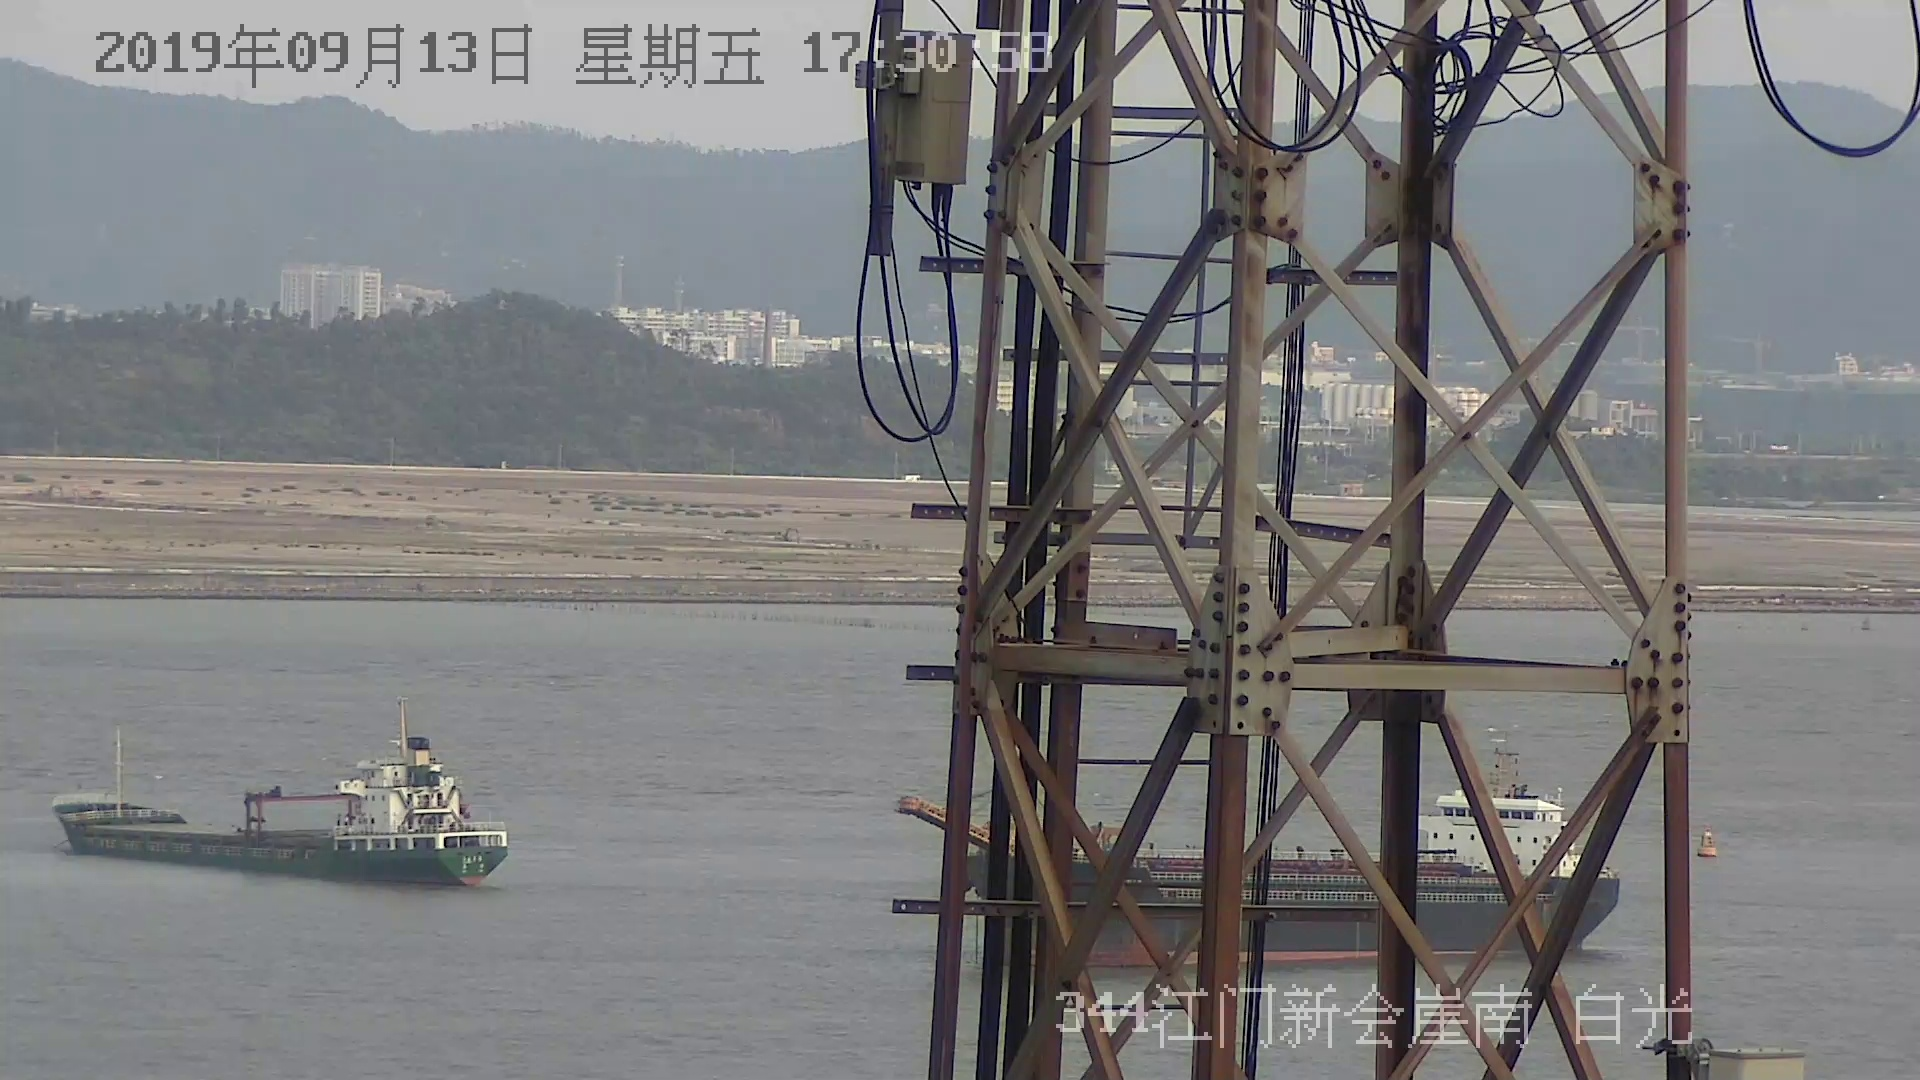ship: (51, 688, 509, 894)
